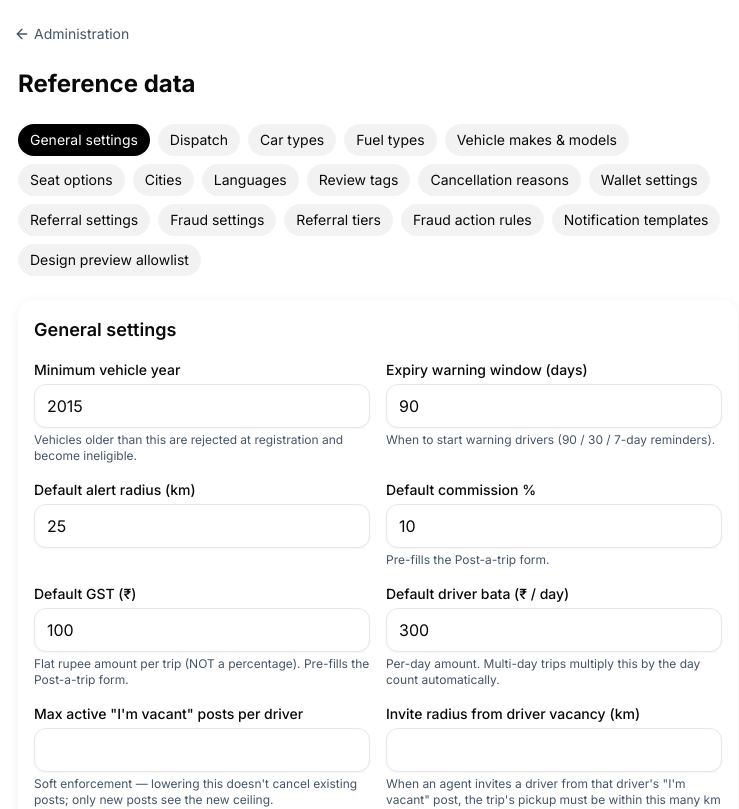
Scenario: AdminConfigPage › Review tags section renders the three vocabularies
What coordinates should you click on to do the following:
click the button "Review tags"
I would click on:
 (359, 180)
Its box is [307, 164, 410, 196].
(page scrolled)
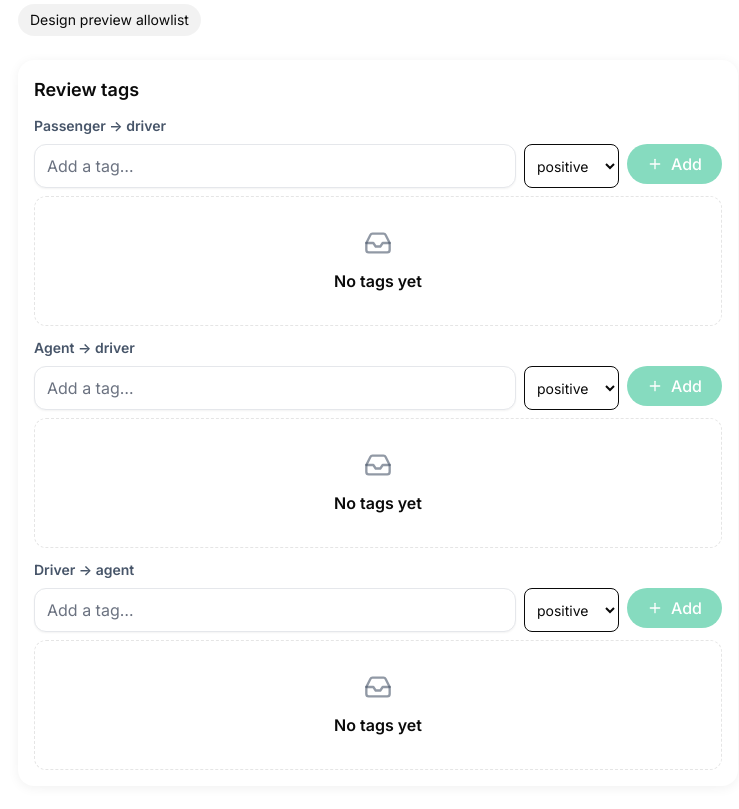
Result: the heading "Passenger → driver" is shown at [34, 117, 166, 134]
Result: the heading "Agent → driver" is shown at [34, 339, 135, 356]
Result: the heading "Driver → agent" is shown at [34, 561, 134, 578]
